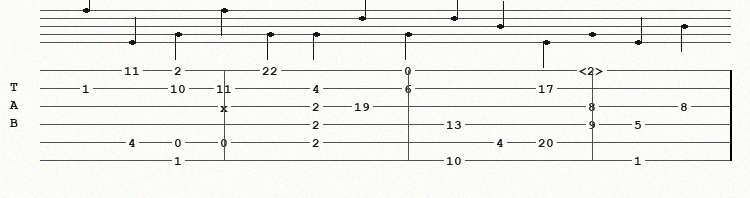0: (174, 136, 186, 148), (220, 136, 232, 148), (404, 64, 416, 76)
1: (82, 82, 94, 94), (174, 154, 186, 166), (634, 154, 646, 166)
10: (170, 82, 190, 94), (446, 154, 466, 166)
11: (124, 64, 144, 76), (216, 82, 236, 94)
13: (446, 118, 466, 130)
17: (538, 82, 558, 94)
19: (354, 100, 374, 112)
2: (174, 64, 186, 76), (312, 100, 324, 112), (312, 118, 324, 130), (312, 136, 324, 148)
20: (538, 136, 558, 148)
22: (262, 64, 282, 76)
4: (128, 136, 140, 148), (312, 82, 324, 94), (496, 136, 508, 148)
5: (634, 118, 646, 130)
6: (404, 82, 416, 94)
8: (588, 100, 600, 112), (680, 100, 692, 112)
9: (588, 118, 600, 130)
harmonic: (579, 64, 608, 76)
x: (220, 101, 232, 111)
